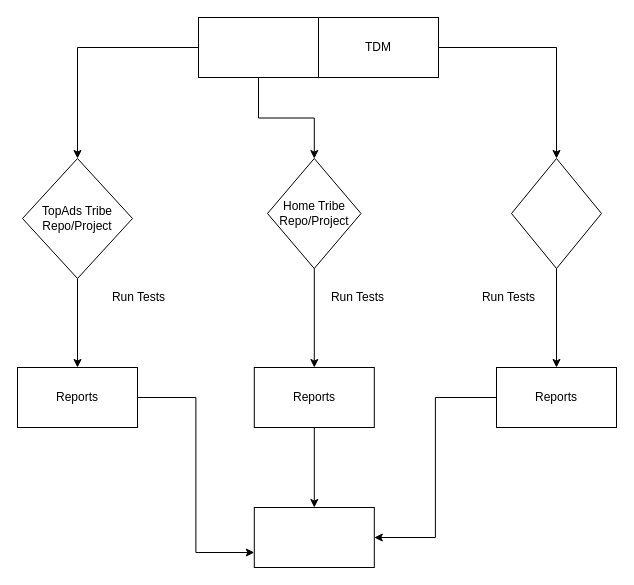
The diagram is 634 pixels wide and 585 high, and some of its shapes have lost their labels. Each missing label, with the centre of its shape:
"DE Tribe Repo/Project" goes at (x=556, y=213).
"Smartesmond Report Portal" goes at (x=313, y=537).
"Trex2.0-core" goes at (x=258, y=47).
